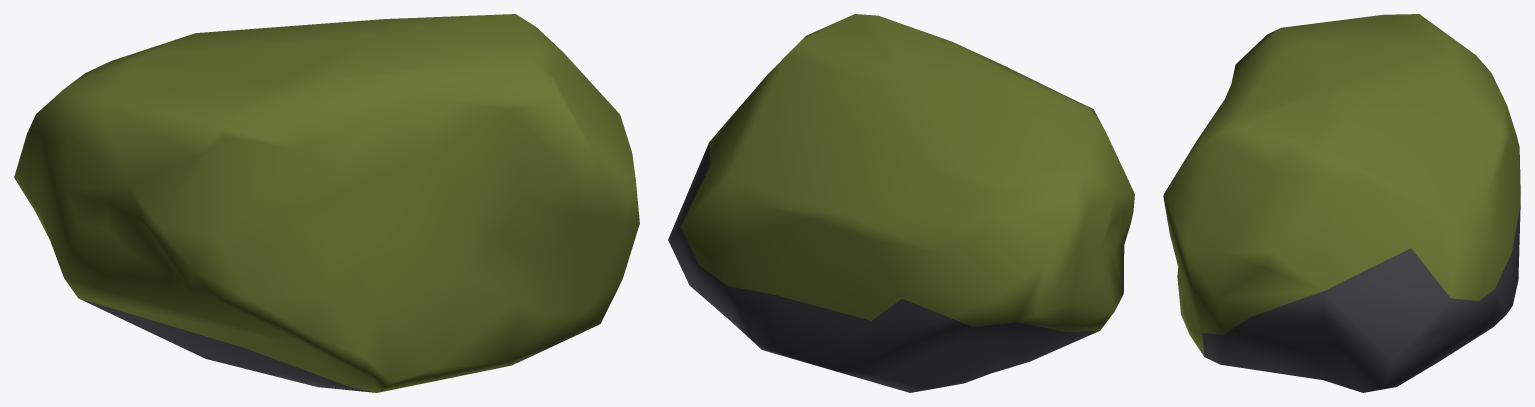
File: Rock_2_mossy.fbx
The picture shows the model from 3 angles, left to right: view 1: azimuth 30°, elevation 25°; view 2: azimuth 150°, elevation 25°; view 3: azimuth 270°, elevation 25°; orthographic projection. The views are drawn at different scales.
Parts seen in each view (by area): view 1: Rock_2_mossy; view 2: Rock_2_mossy; view 3: Rock_2_mossy.
Part boxes in pixels (left/top/right/bottom): Rock_2_mossy: left=14, top=14, right=639, bottom=392; Rock_2_mossy: left=668, top=14, right=1134, bottom=392; Rock_2_mossy: left=1163, top=14, right=1520, bottom=392.
Bounding box in the file's own units: 41.76 × 24.74 × 31.2.
1 material, 1 textured.
